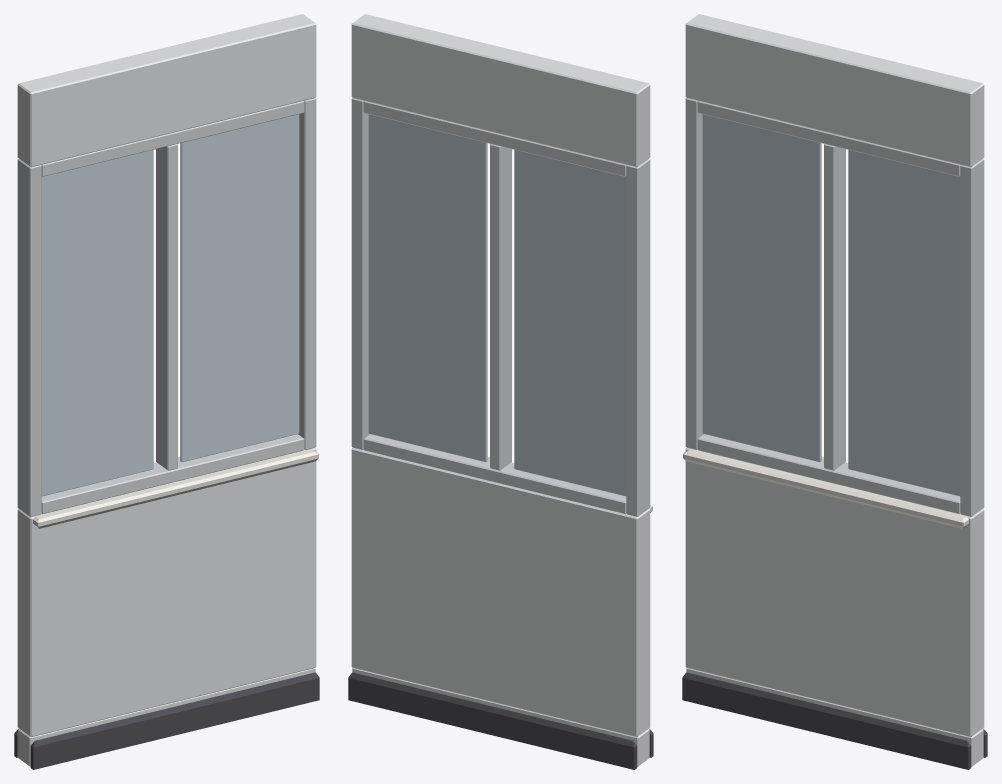
The model's file is police-station-and-detective-office-partition-wall-gla-ad2904bf__29943.glb.
3 views of the same model, side by side, from view 1: azimuth 30°, elevation 25°; view 2: azimuth 150°, elevation 25°; view 3: azimuth 330°, elevation 25° (orthographic).
Parts seen in each view (by area): view 1: partition-wall-glazed; view 2: partition-wall-glazed; view 3: partition-wall-glazed.
Boxes of the visible parts, x1,y1,x2,y2 form: partition-wall-glazed: (14, 14, 319, 769); partition-wall-glazed: (348, 14, 653, 769); partition-wall-glazed: (682, 14, 987, 769).
Size of the model in its own units: 1.2 by 2.7 by 0.155.
